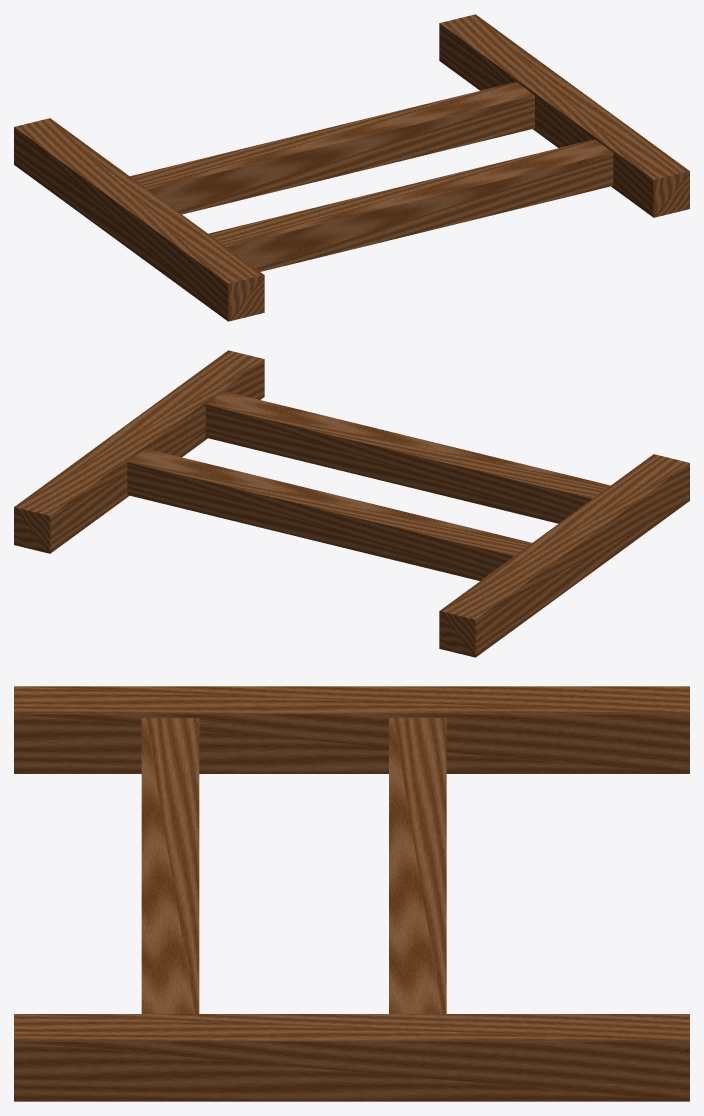
Rendered from SM_ShFenceSegment.obj.
The picture shows the model from 3 angles, top to bottom: view 1: azimuth 30°, elevation 25°; view 2: azimuth 150°, elevation 25°; view 3: azimuth 270°, elevation 25°; orthographic projection. The views are drawn at different scales.
Visible parts, largest first — view 1: SM_ShFenceSegment; view 2: SM_ShFenceSegment; view 3: SM_ShFenceSegment.
Boxes of the visible parts, x1,y1,x2,y2 form: SM_ShFenceSegment: (14, 14, 689, 321); SM_ShFenceSegment: (14, 350, 689, 657); SM_ShFenceSegment: (14, 686, 689, 1101).
Size of the model in its own units: 102 by 8 by 82.
Materials: 1 (1 with a texture image).
